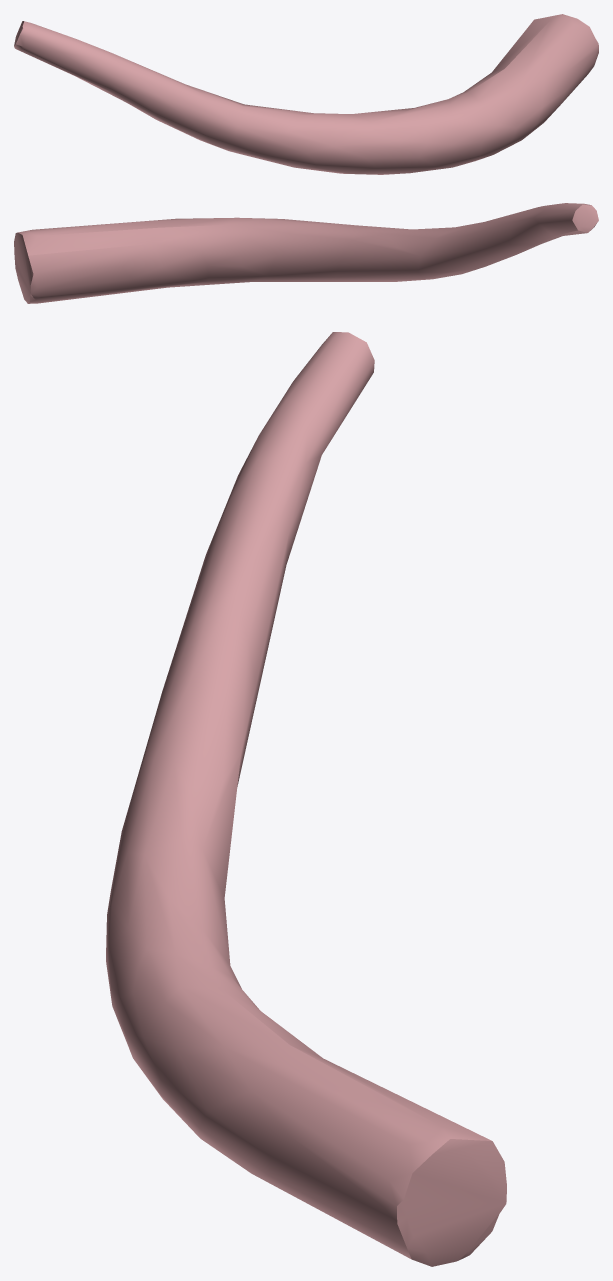
The model's file is fma68212_fj2453.glb.
The picture shows the model from 3 angles, top to bottom: view 1: azimuth 30°, elevation 25°; view 2: azimuth 150°, elevation 25°; view 3: azimuth 270°, elevation 25°; orthographic projection. The views are drawn at different scales.
Parts seen in each view (by area): view 1: FMA68212_FJ2453; view 2: FMA68212_FJ2453; view 3: FMA68212_FJ2453.
Part boxes in pixels (x1,y1,x2,y2): FMA68212_FJ2453: [14, 14, 598, 174]; FMA68212_FJ2453: [14, 203, 598, 303]; FMA68212_FJ2453: [106, 332, 506, 1266].
Bounding box in the file's own units: 0.0623 × 0.0216 × 0.0191.
